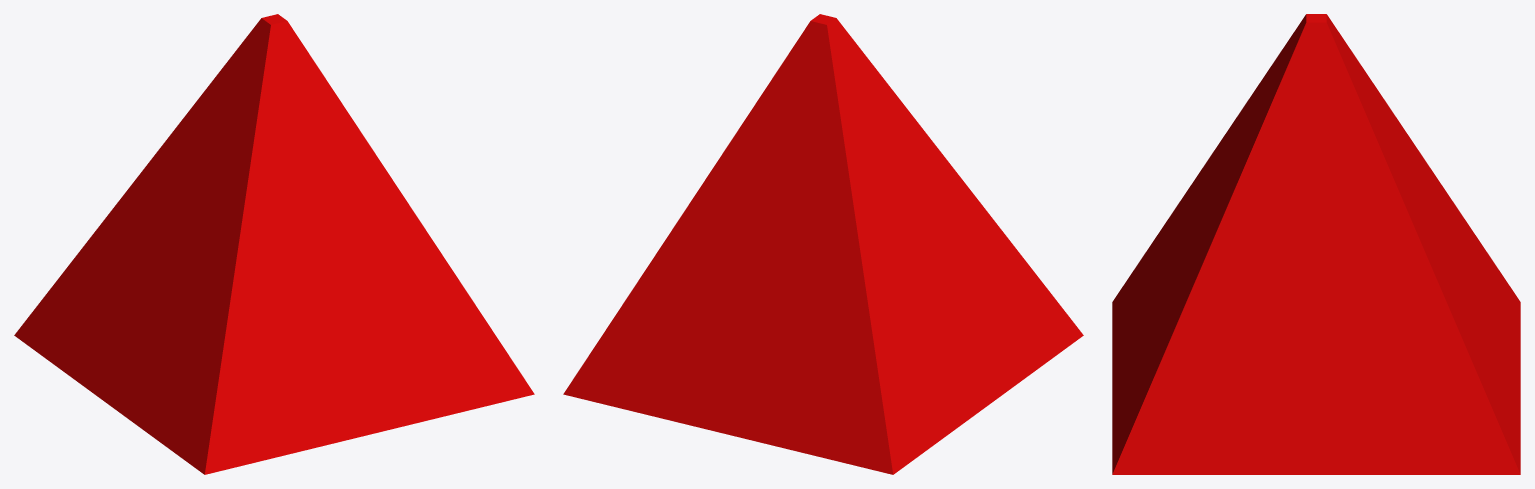
File: MinamiNagai.glb
3 renders of one model, left to right at view 1: azimuth 30°, elevation 25°; view 2: azimuth 150°, elevation 25°; view 3: azimuth 270°, elevation 25°, orthographic. The views are drawn at different scales.
Visible parts, largest first — view 1: Geom3D; view 2: Geom3D; view 3: Geom3D.
Part boxes in pixels (x1,y1,x2,y2): Geom3D: (14, 14, 534, 474); Geom3D: (563, 14, 1083, 474); Geom3D: (1112, 14, 1520, 474).
Size of the model in its own units: 1 by 1 by 1.
